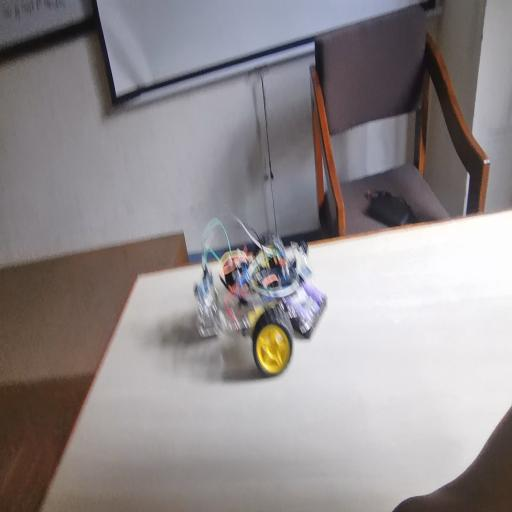car: (182, 233, 344, 371)
